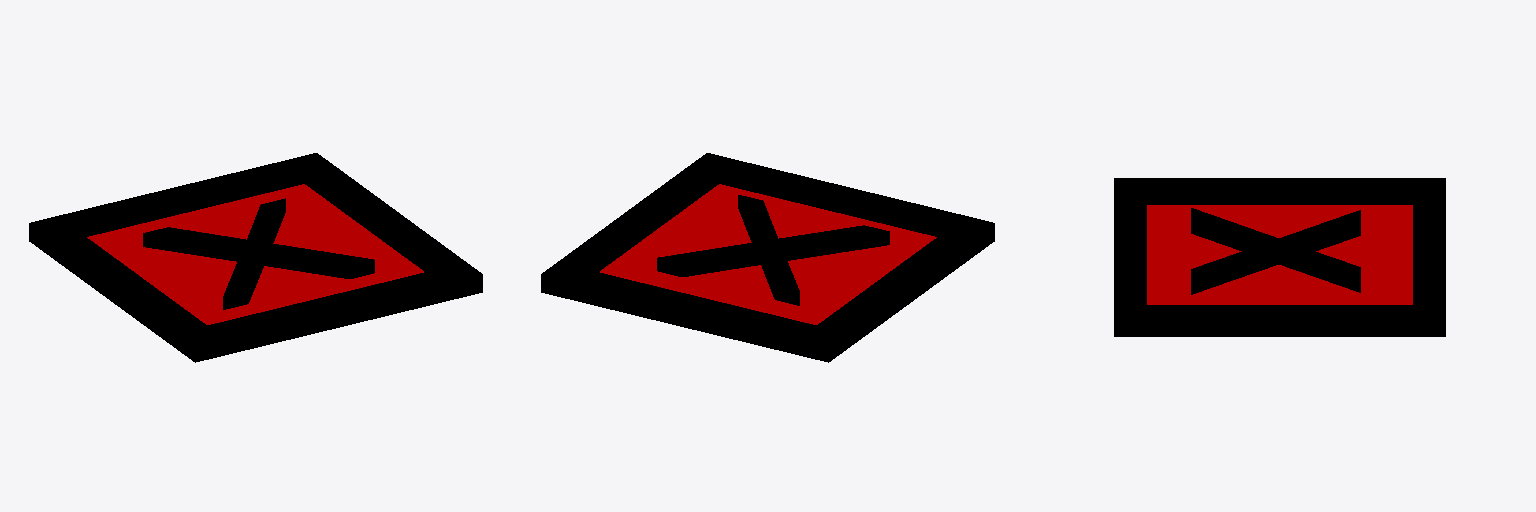
The model's file is rbomb.obj.
3 renders of one model, left to right at view 1: azimuth 30°, elevation 25°; view 2: azimuth 150°, elevation 25°; view 3: azimuth 270°, elevation 25°, orthographic.
Visible parts, largest first — view 1: Cube.002, Cube.001, Text; view 2: Cube.002, Cube.001, Text; view 3: Cube.002, Cube.001, Text.
Boxes of the visible parts, x1=… form: Cube.002: x1=29, y1=153, x2=482, y2=362; Cube.001: x1=87, y1=184, x2=423, y2=324; Text: x1=143, y1=198, x2=374, y2=309; Cube.002: x1=541, y1=153, x2=994, y2=362; Cube.001: x1=600, y1=184, x2=936, y2=324; Text: x1=657, y1=195, x2=889, y2=305; Cube.002: x1=1114, y1=178, x2=1445, y2=336; Cube.001: x1=1147, y1=205, x2=1412, y2=304; Text: x1=1191, y1=208, x2=1360, y2=294.
Bounding box in the file's own units: 2 × 0.1428 × 2.